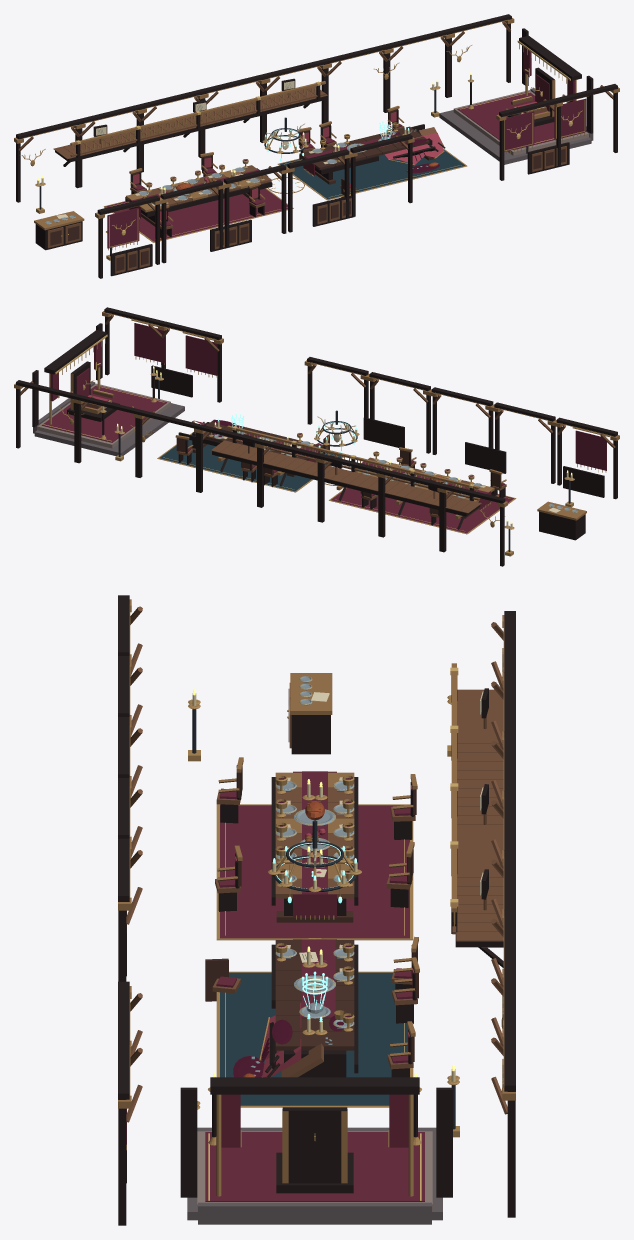
Rendered from haunted_feast.glb.
3 views of the same model, one above another, from view 1: azimuth 30°, elevation 25°; view 2: azimuth 150°, elevation 25°; view 3: azimuth 270°, elevation 25° (orthographic). The views are drawn at different scales.
Parts seen in each view (by area): view 1: Banquet_3_-4_velvet, Banquet_5_-4_shadow_blue, Banquet_3_-5_black_oak, Banquet_3_-4_carved_oak, Banquet_3_-4_black_oak, Banquet_6_-4_velvet, Banquet_6_-5_black_oak, Banquet_4_-5_black_oak, Banquet_2_-5_black_oak, Banquet_3_-4_gold_oak, Banquet_5_-3_black_oak, Banquet_4_-4_carved_oak (+27 smaller); view 2: Banquet_6_-4_velvet, Banquet_3_-5_black_oak, Banquet_4_-5_black_oak, Banquet_3_-4_velvet, Banquet_2_-5_black_oak, Banquet_3_-4_carved_oak, Banquet_6_-5_black_oak, Banquet_6_-4_black_oak, Banquet_3_-3_black_oak, Banquet_5_-3_black_oak, Banquet_6_-4_stone, Banquet_5_-4_shadow_blue (+19 smaller); view 3: Banquet_3_-4_velvet, Banquet_6_-4_black_oak, Banquet_6_-4_velvet, Banquet_5_-4_shadow_blue, Banquet_6_-4_stone, Banquet_3_-4_carved_oak, Banquet_4_-4_carved_oak, Banquet_6_-5_black_oak, Banquet_3_-4_black_oak, Banquet_5_-4_oak, Banquet_3_-4_gold_oak, Banquet_4_-4_velvet (+25 smaller).
Part boxes in pixels (left/top/right/bottom): Banquet_3_-4_velvet: left=106, top=168, right=287, bottom=241; Banquet_5_-4_shadow_blue: left=280, top=150, right=465, bottom=199; Banquet_3_-5_black_oak: left=160, top=164, right=292, bottom=251; Banquet_3_-4_carved_oak: left=70, top=93, right=325, bottom=206; Banquet_3_-4_black_oak: left=55, top=96, right=326, bottom=222; Banquet_6_-4_velvet: left=457, top=47, right=584, bottom=149; Banquet_6_-5_black_oak: left=499, top=75, right=617, bottom=174; Banquet_4_-5_black_oak: left=287, top=134, right=412, bottom=226; Banquet_2_-5_black_oak: left=97, top=195, right=166, bottom=278; Banquet_3_-4_gold_oak: left=70, top=81, right=325, bottom=212; Banquet_5_-3_black_oak: left=321, top=29, right=450, bottom=123; Banquet_4_-4_carved_oak: left=204, top=86, right=336, bottom=184; Banquet_6_-4_velvet: left=41, top=368, right=166, bottom=442; Banquet_3_-5_black_oak: left=401, top=387, right=555, bottom=495; Banquet_4_-5_black_oak: left=307, top=357, right=430, bottom=447; Banquet_3_-4_velvet: left=331, top=462, right=513, bottom=533; Banquet_2_-5_black_oak: left=499, top=417, right=617, bottom=499; Banquet_3_-4_carved_oak: left=227, top=437, right=479, bottom=517; Banquet_6_-5_black_oak: left=96, top=307, right=221, bottom=398; Banquet_6_-4_black_oak: left=32, top=330, right=119, bottom=435; Banquet_3_-3_black_oak: left=317, top=454, right=443, bottom=537; Banquet_5_-3_black_oak: left=76, top=395, right=202, bottom=492; Banquet_6_-4_stone: left=33, top=381, right=184, bottom=456; Banquet_5_-4_shadow_blue: left=159, top=434, right=342, bottom=491; Banquet_3_-4_velvet: left=220, top=771, right=410, bottom=938; Banquet_6_-4_black_oak: left=210, top=1077, right=452, bottom=1197; Banquet_6_-4_velvet: left=205, top=1094, right=424, bottom=1201; Banquet_5_-4_shadow_blue: left=220, top=972, right=408, bottom=1105; Banquet_6_-4_stone: left=187, top=1127, right=442, bottom=1224; Banquet_3_-4_carved_oak: left=275, top=715, right=503, bottom=934; Banquet_4_-4_carved_oak: left=275, top=833, right=503, bottom=1005; Banquet_6_-5_black_oak: left=118, top=981, right=216, bottom=1225; Banquet_3_-4_black_oak: left=271, top=688, right=503, bottom=947; Banquet_5_-4_oak: left=275, top=985, right=414, bottom=1062; Banquet_3_-4_gold_oak: left=275, top=663, right=456, bottom=912; Banquet_4_-4_velvet: left=293, top=894, right=412, bottom=1018.
Size of what is drawn, in the model's own units: 33.66 by 4.46 by 11.05.
